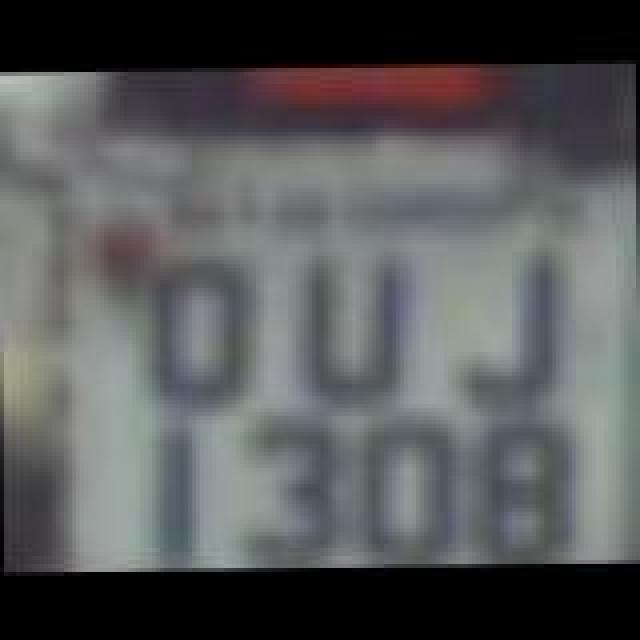1: (150, 416, 202, 560)
3: (238, 420, 346, 564)
8: (478, 414, 578, 562)
J: (460, 256, 564, 400)
O: (150, 264, 258, 408), (356, 416, 460, 560)
U: (296, 260, 408, 404)
